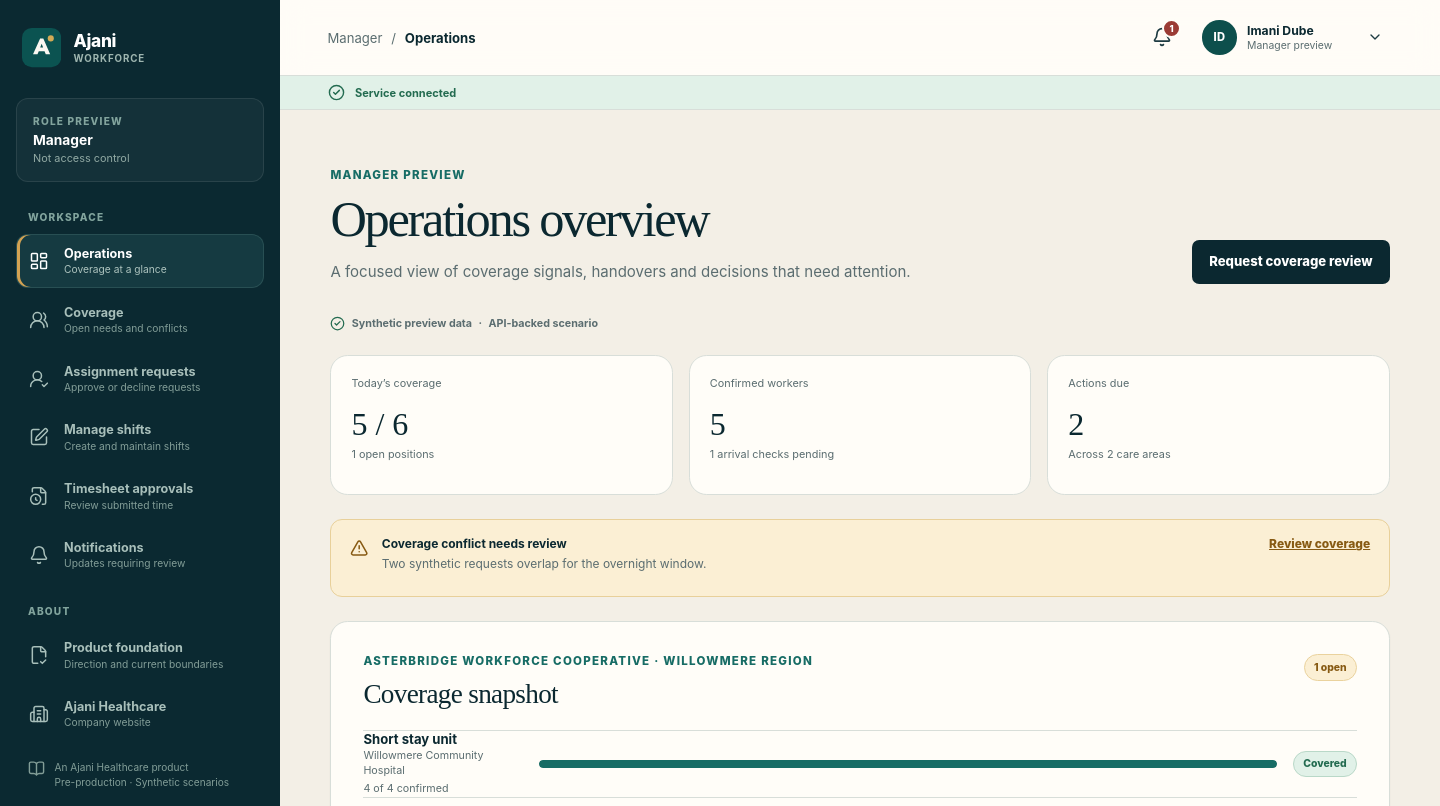
Test: Ajani application shell › shows useful field validation and confirms a successful preview interaction
This screenshot has width=1440, height=806.
Click the button "Request coverage review" at x=1291, y=262, box [1192, 240, 1390, 284]
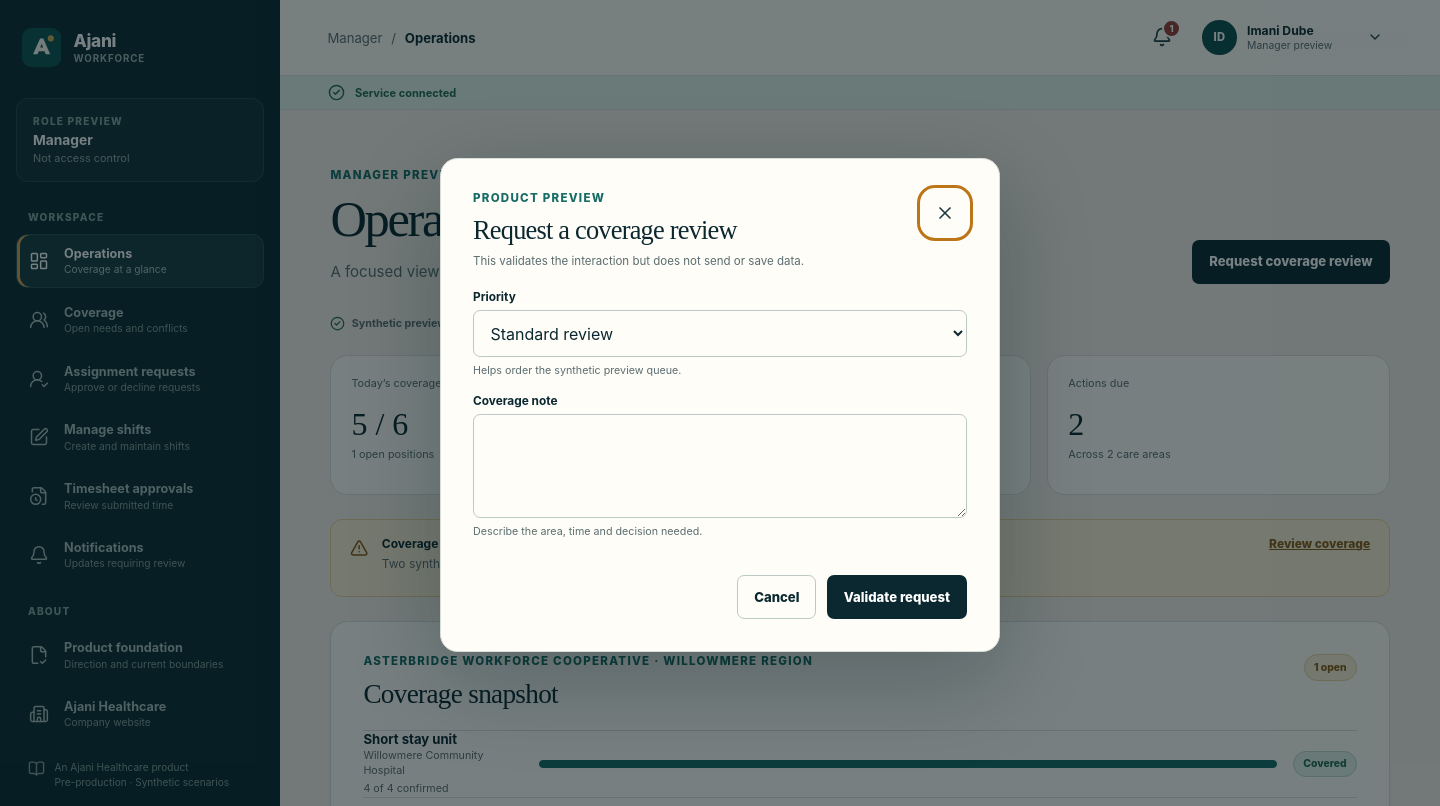
Click the button "Validate request" at x=897, y=598, box [827, 576, 967, 620]
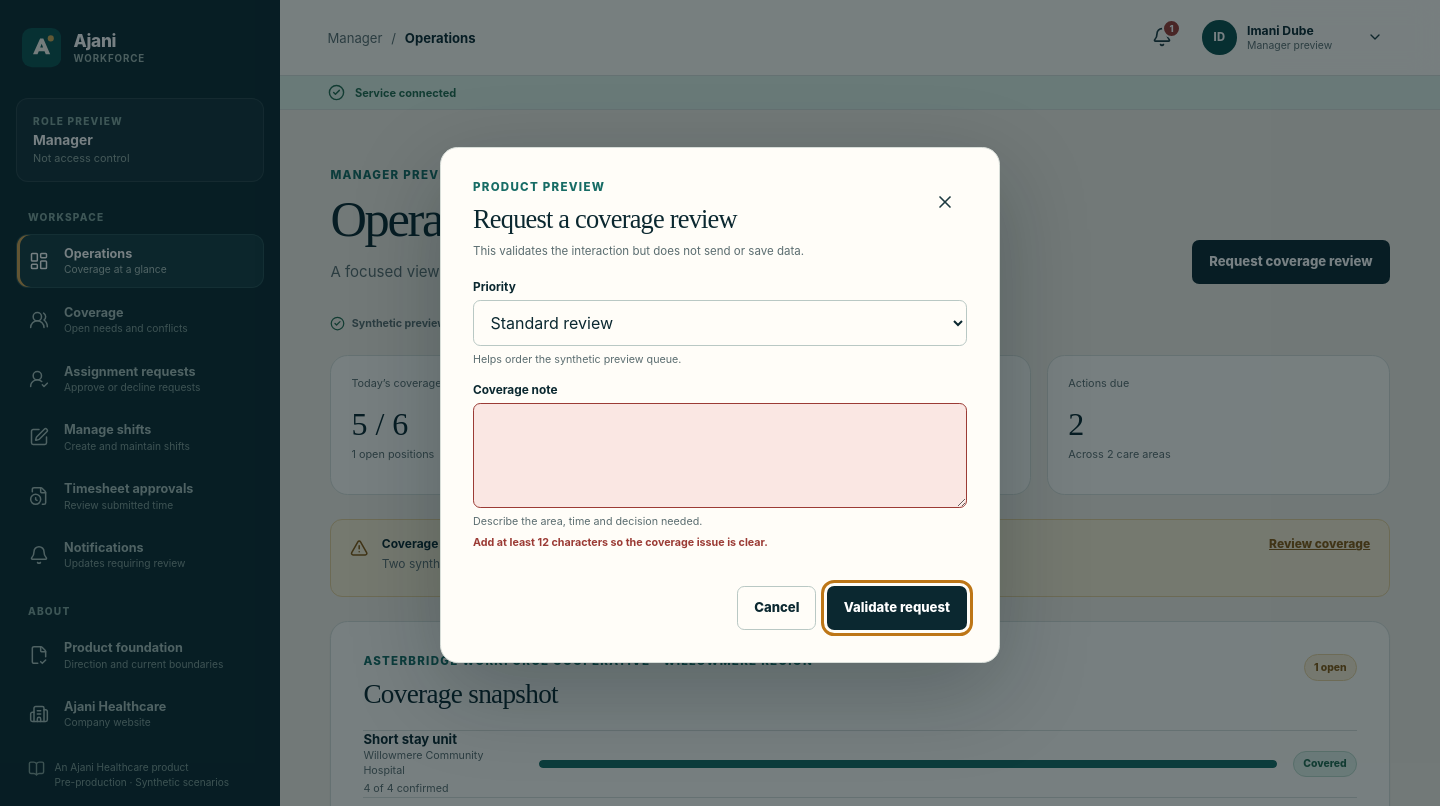
Expected: the message "Add at least 12 characters so the coverage issue is clear." is shown, [473, 536, 768, 549]
Type "Review the Birch Ward overnight gap." into the text box labelled "Coverage note" at x=720, y=456, box [473, 404, 967, 508]
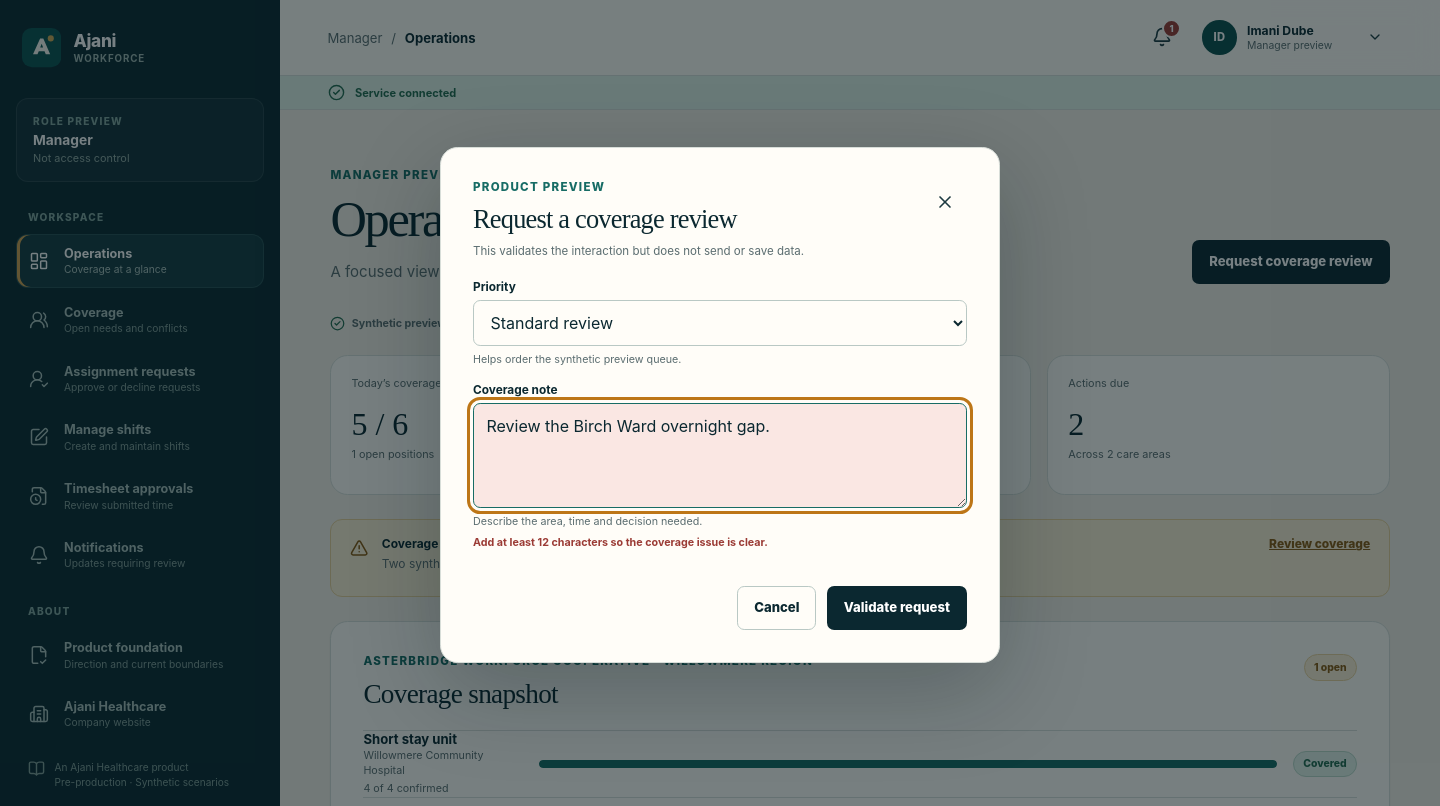
Click the button "Validate request" at x=897, y=608, box [827, 586, 967, 630]
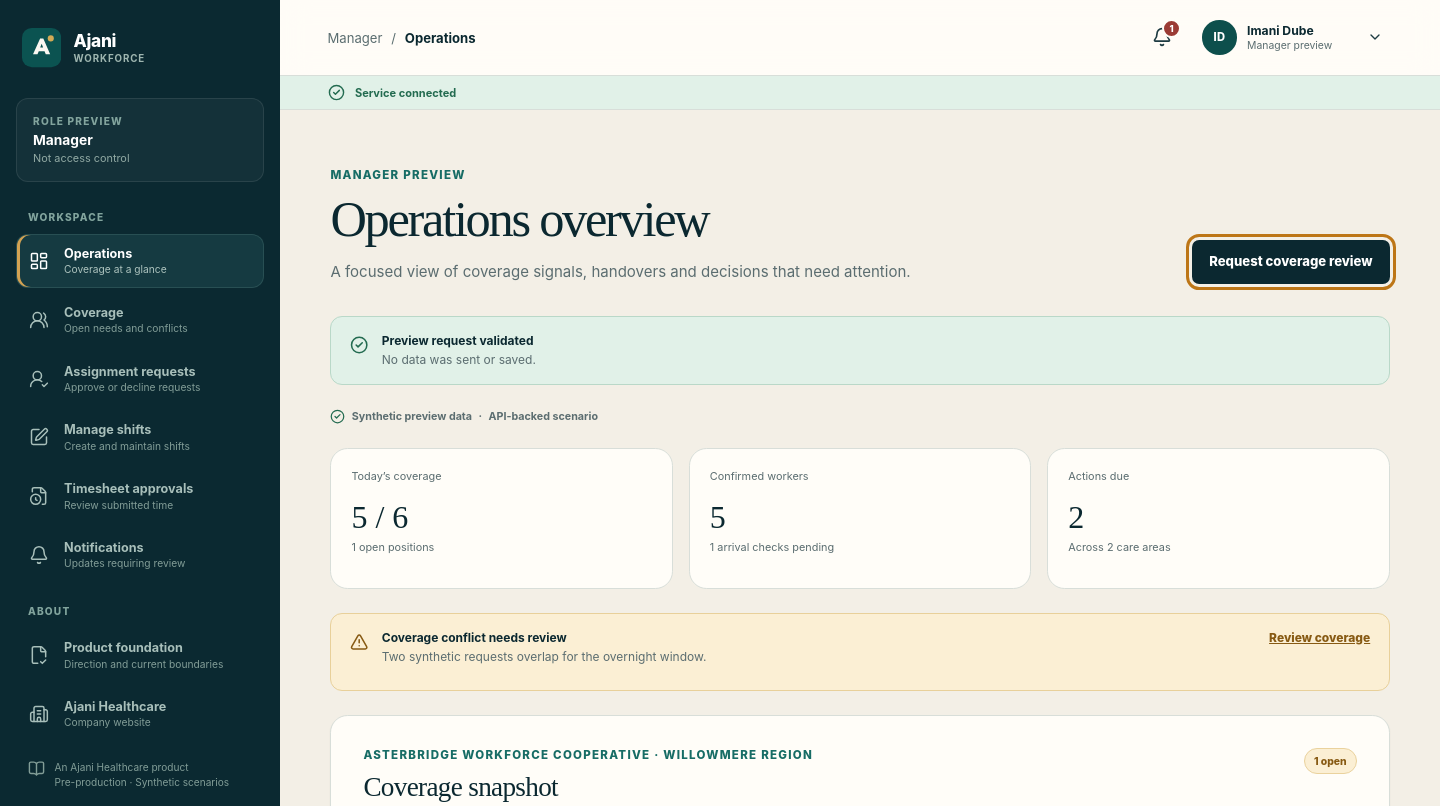
Expected: the message "Preview request validated No data was sent or saved." is shown, [330, 316, 1390, 385]
Expected: the heading "Request a coverage review" is gone
